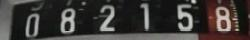digits: (93, 4, 115, 30), (176, 3, 194, 29), (214, 6, 231, 31), (59, 8, 76, 33), (25, 14, 39, 36), (139, 2, 149, 29)
